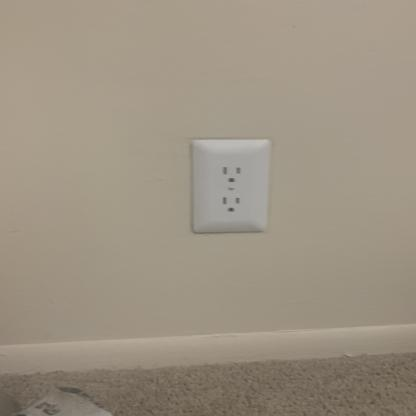OUTLET: (192, 140, 268, 233)
